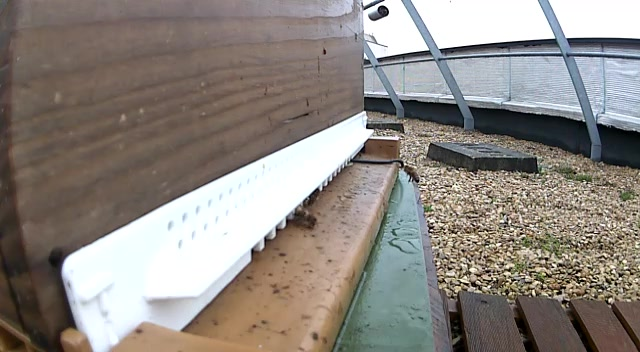bee: (288, 205, 322, 227), (401, 163, 422, 186), (304, 187, 323, 209), (445, 1, 455, 4)
